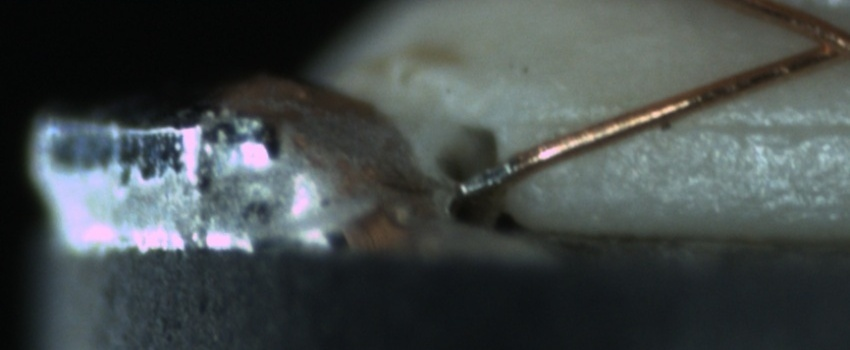CL: (791, 14, 850, 71)
DL: (522, 93, 850, 154)
TS: (455, 158, 517, 197)
